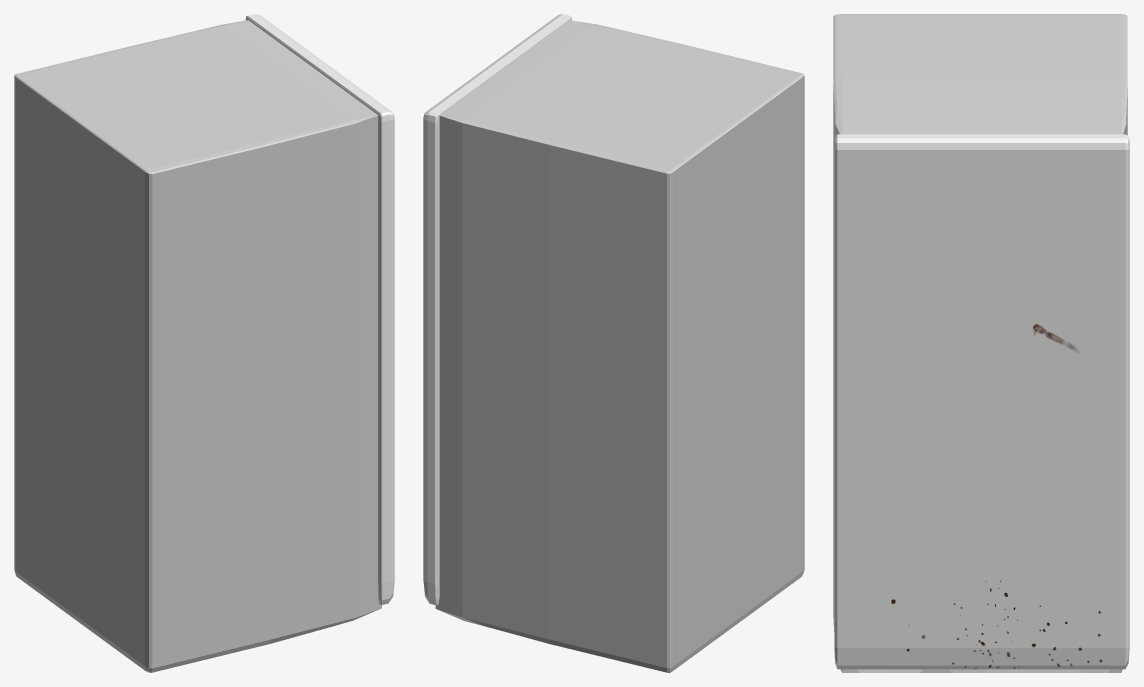
The model's file is Fridge NEW.fbx.
3 views of the same model, side by side, from view 1: azimuth 30°, elevation 25°; view 2: azimuth 150°, elevation 25°; view 3: azimuth 270°, elevation 25° (orthographic). The views are drawn at different scales.
Parts seen in each view (by area): view 1: Fridge, FridgeDoor; view 2: Fridge, FridgeDoor; view 3: FridgeDoor, Fridge.
Boxes of the visible parts, x1=… form: Fridge: x1=14, y1=20, x2=381, y2=672; FridgeDoor: x1=245, y1=14, x2=394, y2=605; Fridge: x1=435, y1=20, x2=804, y2=672; FridgeDoor: x1=423, y1=14, x2=572, y2=605; FridgeDoor: x1=834, y1=134, x2=1129, y2=669; Fridge: x1=833, y1=14, x2=1127, y2=672.
Bounding box in the file's own units: 84.51 × 165 × 81.25.
